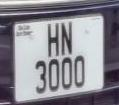0: (73, 53, 88, 93), (47, 56, 62, 96), (61, 53, 75, 94)
3: (32, 56, 48, 99)
H: (45, 20, 62, 61)
N: (61, 19, 76, 59)
